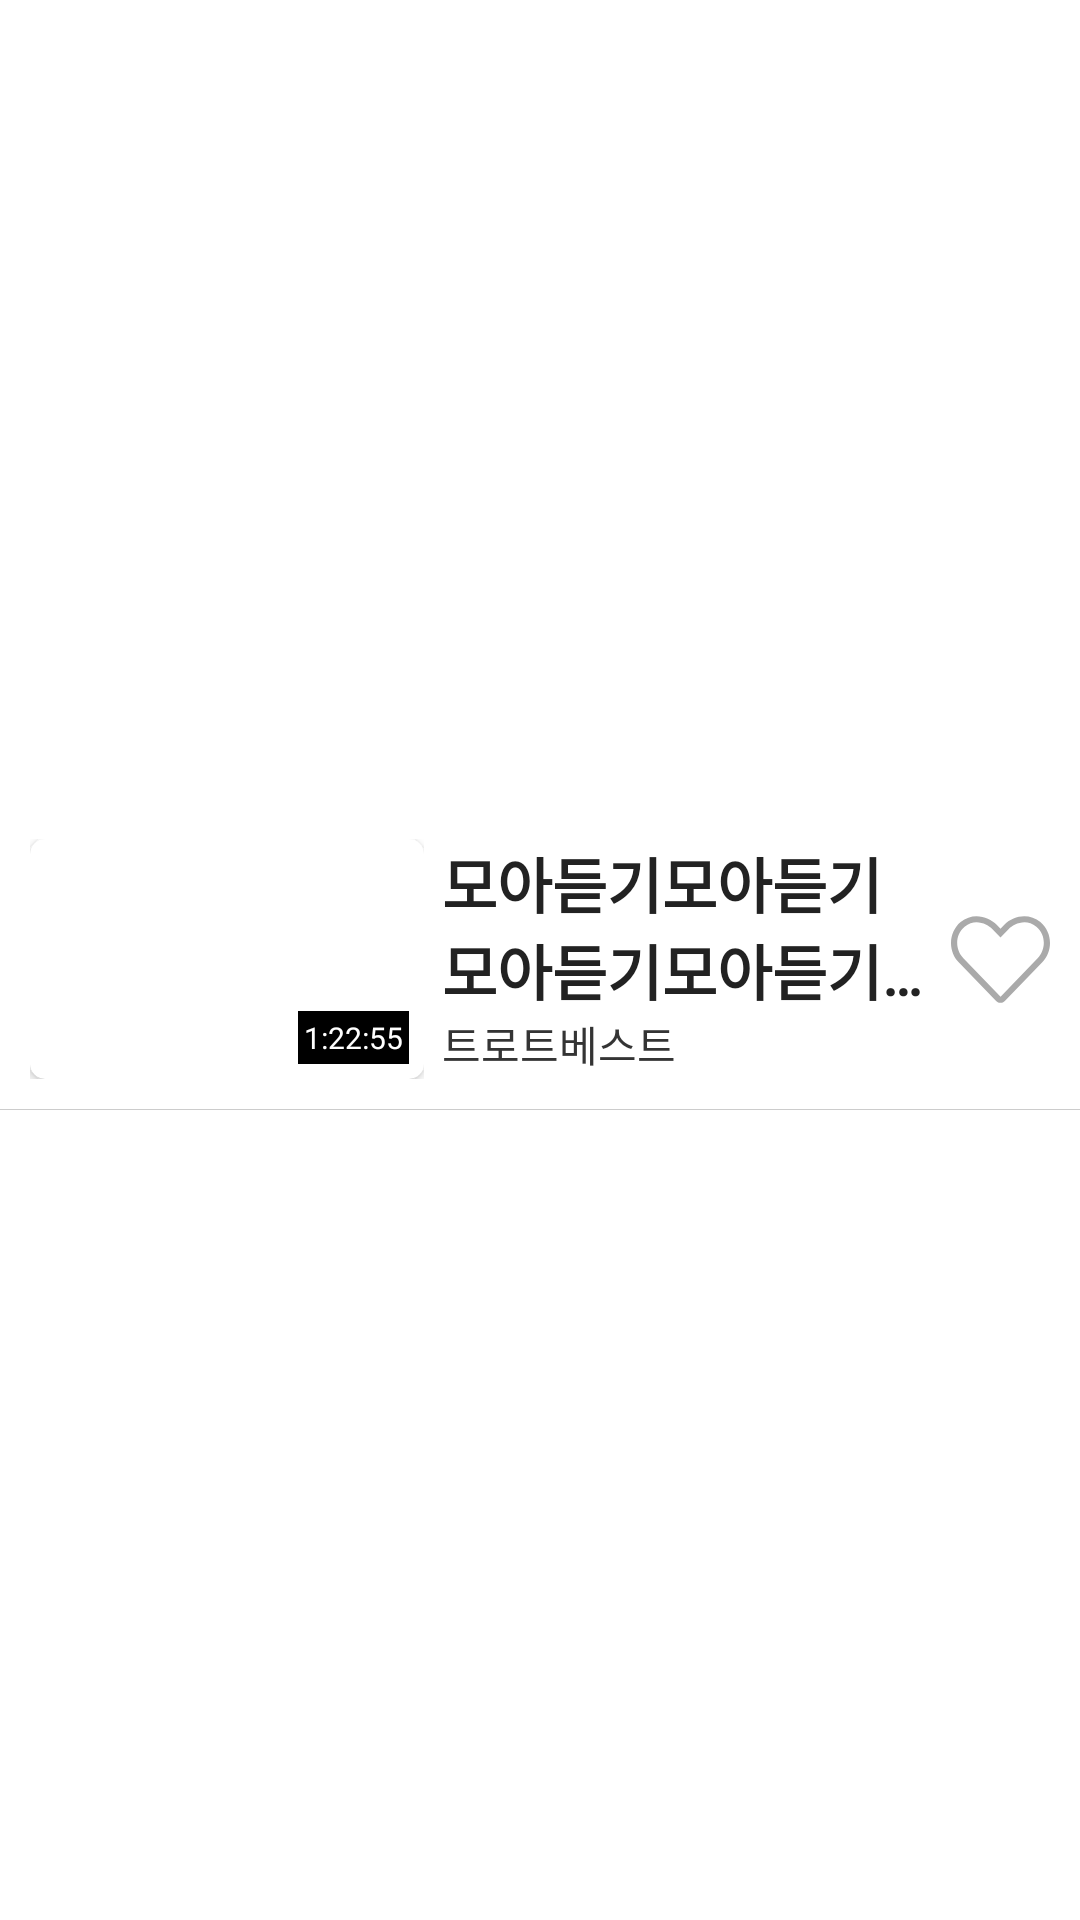

Named icons in this screenshot (1080x1920) and their centers, point (x, y):
heart: point (1000, 959)
